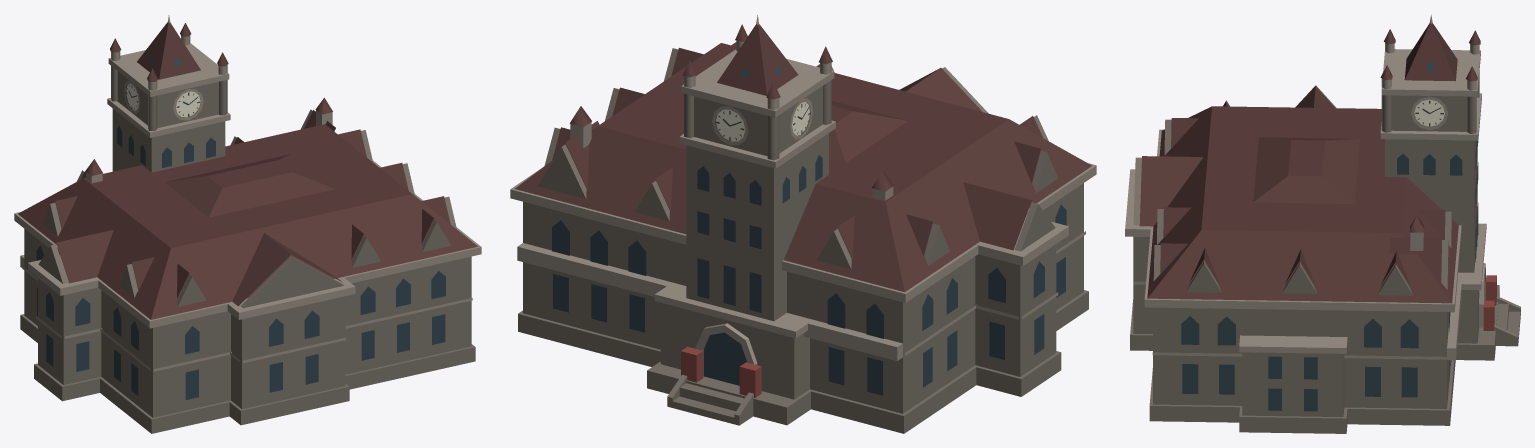
File: calgary-city-hall-far.glb
3 renders of one model, left to right at view 1: azimuth 30°, elevation 25°; view 2: azimuth 150°, elevation 25°; view 3: azimuth 270°, elevation 25°, orthographic. The views are drawn at different scales.
Visible parts, largest first — view 1: calgary-city-hall-0-stone, calgary-city-hall-0-roof, calgary-city-hall-0-trim, calgary-city-hall-0-glass, calgary-city-hall-0-lamp; view 2: calgary-city-hall-0-stone, calgary-city-hall-0-roof, calgary-city-hall-0-trim, calgary-city-hall-0-glass, calgary-city-hall-0-granite, calgary-city-hall-0-lamp; view 3: calgary-city-hall-0-roof, calgary-city-hall-0-stone, calgary-city-hall-0-trim, calgary-city-hall-0-glass, calgary-city-hall-0-granite, calgary-city-hall-0-lamp.
Part boxes in pixels (x1=…): calgary-city-hall-0-stone: x1=20, y1=66, x2=475, y2=433; calgary-city-hall-0-roof: x1=18, y1=22, x2=477, y2=319; calgary-city-hall-0-trim: x1=14, y1=15, x2=481, y2=371; calgary-city-hall-0-glass: x1=36, y1=55, x2=445, y2=399; calgary-city-hall-0-lamp: x1=126, y1=83, x2=200, y2=117; calgary-city-hall-0-stone: x1=518, y1=48, x2=1088, y2=433; calgary-city-hall-0-roof: x1=515, y1=24, x2=1091, y2=292; calgary-city-hall-0-trim: x1=510, y1=15, x2=1096, y2=376; calgary-city-hall-0-glass: x1=552, y1=65, x2=1066, y2=395; calgary-city-hall-0-granite: x1=681, y1=346, x2=761, y2=397; calgary-city-hall-0-lamp: x1=715, y1=102, x2=809, y2=141; calgary-city-hall-0-roof: x1=1139, y1=22, x2=1480, y2=303; calgary-city-hall-0-stone: x1=1130, y1=72, x2=1520, y2=433; calgary-city-hall-0-trim: x1=1125, y1=14, x2=1486, y2=360; calgary-city-hall-0-glass: x1=1181, y1=54, x2=1478, y2=411; calgary-city-hall-0-granite: x1=1483, y1=275, x2=1496, y2=330; calgary-city-hall-0-lamp: x1=1414, y1=99, x2=1444, y2=126.
Bounding box in the file's own units: 44.11 × 32.7 × 37.17.
